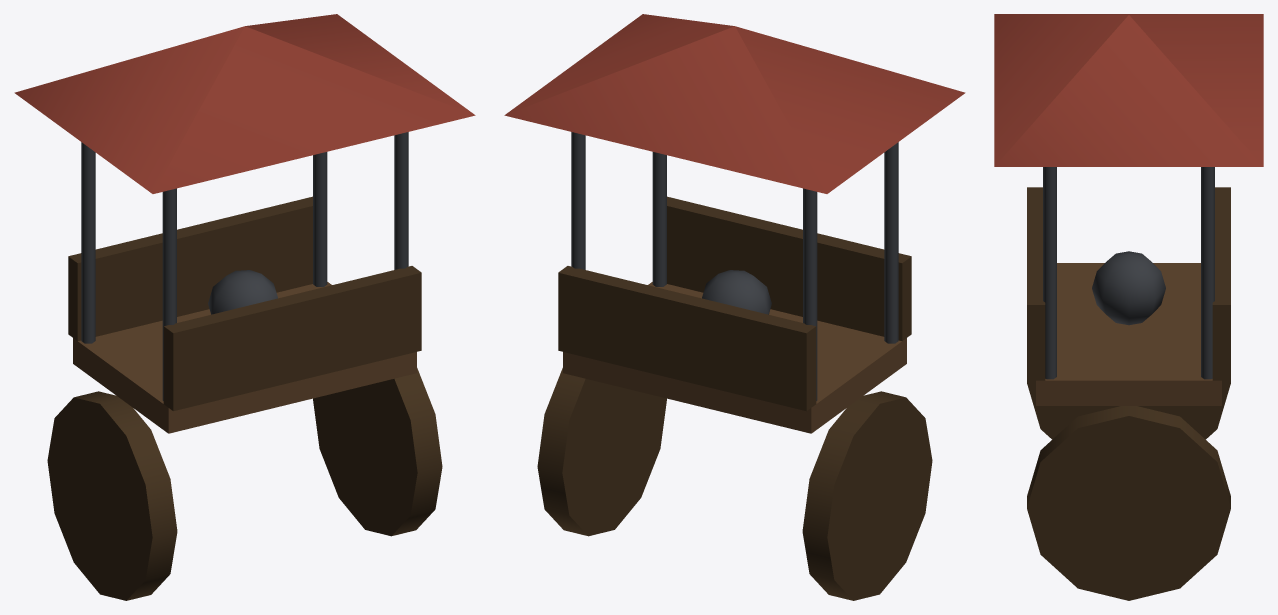
The model's file is food-cart.glb.
The picture shows the model from 3 angles, left to right: view 1: azimuth 30°, elevation 25°; view 2: azimuth 150°, elevation 25°; view 3: azimuth 270°, elevation 25°; orthographic projection. The views are drawn at different scales.
Bounding box in the file's own units: 0.78 × 1.23 × 0.58.
